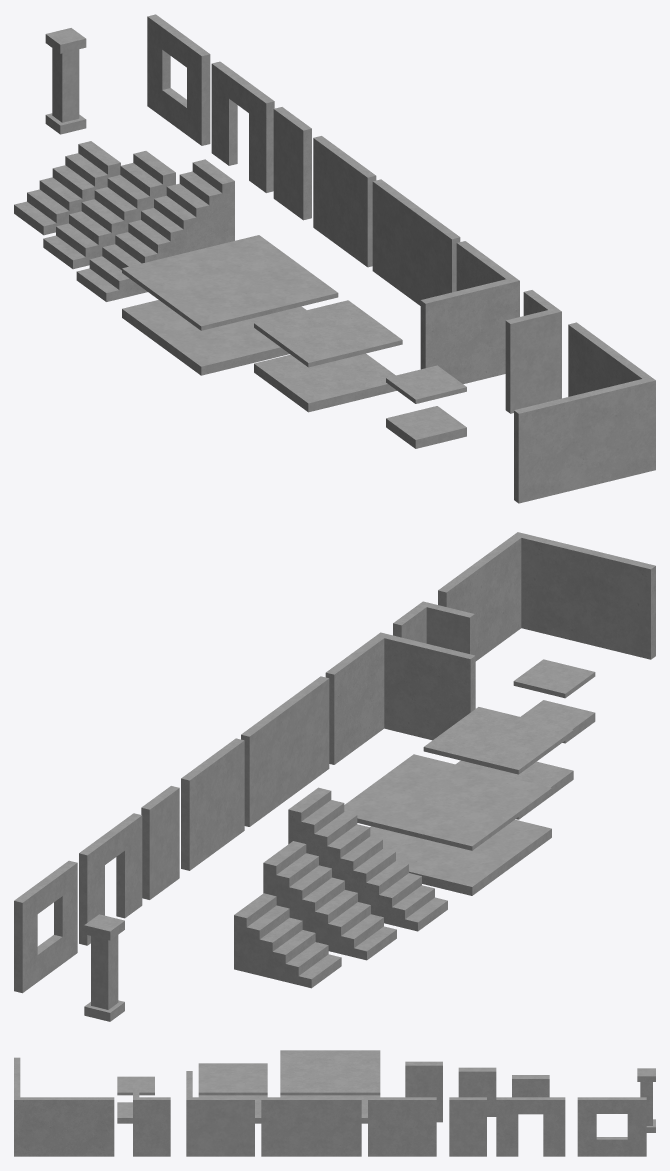
The model's file is FoundationKit.fbx.
3 renders of one model, top to bottom at view 1: azimuth 30°, elevation 25°; view 2: azimuth 150°, elevation 25°; view 3: azimuth 270°, elevation 25°, orthographic. The views are drawn at different scales.
Parts seen in each view (by area): view 1: BigWall_Corner, BigRoof, BigStairs, Wall_Corner, BigWall, Stairs, BigFloor, Wall, SmallWall_Corner, Roof, Wall_WindowFrame, Wall_DoorFrame (+6 smaller); view 2: BigWall_Corner, Wall_Corner, BigRoof, BigStairs, BigWall, Stairs, BigFloor, SmallStairs, Wall, Roof, Wall_WindowFrame, Wall_DoorFrame (+6 smaller); view 3: BigWall_Corner, BigWall, BigRoof, Wall_Corner, Wall, Wall_WindowFrame, Wall_DoorFrame, SmallWall_Corner, Roof, SmallWall, BigStairs, Stairs (+6 smaller).
Boxes of the visible parts, <box> form: BigWall_Corner: <box>514,322,655,503</box>; BigRoof: <box>122,235,338,330</box>; BigStairs: <box>76,159,234,301</box>; Wall_Corner: <box>420,241,519,384</box>; BigWall: <box>372,179,460,305</box>; Stairs: <box>43,151,175,269</box>; BigFloor: <box>122,300,306,375</box>; Wall: <box>313,136,376,267</box>; SmallWall_Corner: <box>505,290,561,413</box>; Roof: <box>254,300,402,367</box>; Wall_WindowFrame: <box>147,14,210,145</box>; Wall_DoorFrame: <box>211,61,274,192</box>; BigWall_Corner: <box>438,532,655,661</box>; Wall_Corner: <box>325,632,475,764</box>; BigRoof: <box>344,754,551,850</box>; BigStairs: <box>288,787,447,931</box>; BigWall: <box>241,676,329,826</box>; Stairs: <box>263,841,396,960</box>; BigFloor: <box>370,819,551,895</box>; SmallStairs: <box>234,893,341,988</box>; Wall: <box>181,738,244,870</box>; Roof: <box>423,707,573,774</box>; Wall_WindowFrame: <box>14,860,77,993</box>; Wall_DoorFrame: <box>79,813,142,945</box>; BigWall_Corner: <box>14,1057,114,1156</box>; BigWall: <box>261,1097,361,1156</box>; BigRoof: <box>280,1050,380,1095</box>; Wall_Corner: <box>186,1071,254,1156</box>; Wall: <box>368,1097,436,1156</box>; Wall_WindowFrame: <box>577,1097,646,1156</box>; Wall_DoorFrame: <box>496,1097,565,1156</box>; SmallWall_Corner: <box>133,1084,170,1156</box>; Roof: <box>198,1063,267,1095</box>; SmallWall: <box>449,1097,486,1156</box>; BigStairs: <box>405,1061,442,1122</box>; Stairs: <box>458,1067,496,1116</box>.
Size of the model in its own units: 5.7 by 2 by 20.5.
